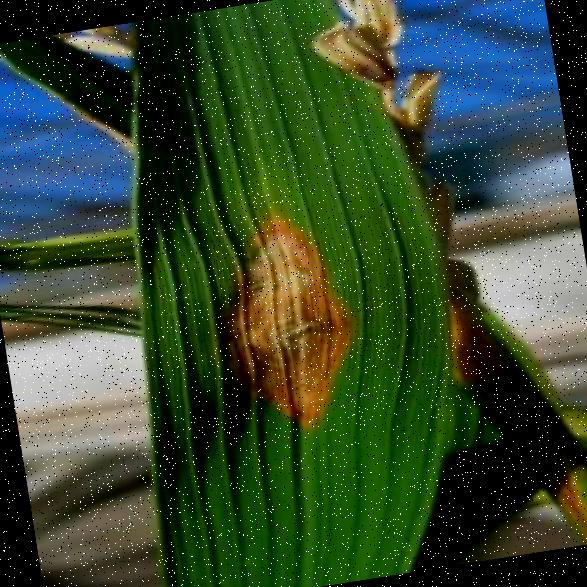Leaf_smut: (188, 181, 396, 491)
